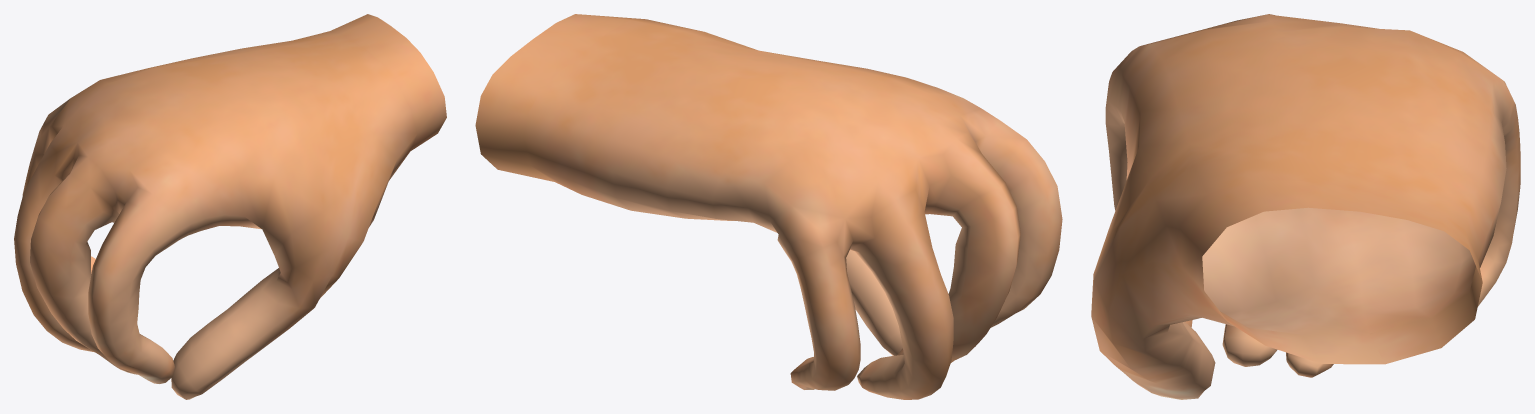
File: H_thumb_4.fbx
The picture shows the model from 3 angles, left to right: view 1: azimuth 30°, elevation 25°; view 2: azimuth 150°, elevation 25°; view 3: azimuth 270°, elevation 25°; orthographic projection. The views are drawn at different scales.
Parts seen in each view (by area): view 1: H_thumb_4; view 2: H_thumb_4; view 3: H_thumb_4.
Boxes of the visible parts, x1,y1,x2,y2 form: H_thumb_4: (14,14,446,399); H_thumb_4: (475,14,1062,399); H_thumb_4: (1091,14,1520,399).
Bounding box in the file's own units: 14.85 × 9.45 × 9.58.
1 material, 1 textured.
